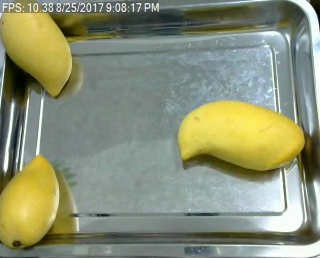Mango: (178, 96, 307, 176), (0, 1, 76, 96), (0, 151, 64, 250)
